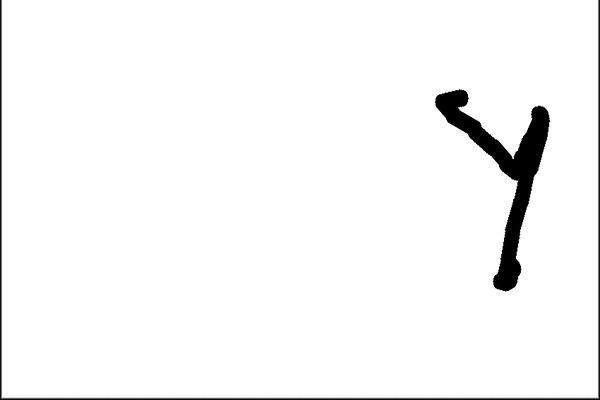Y: (422, 76, 561, 299)
